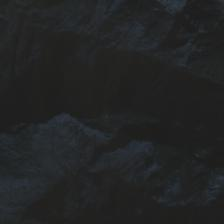landslides: (59, 114, 74, 124)
